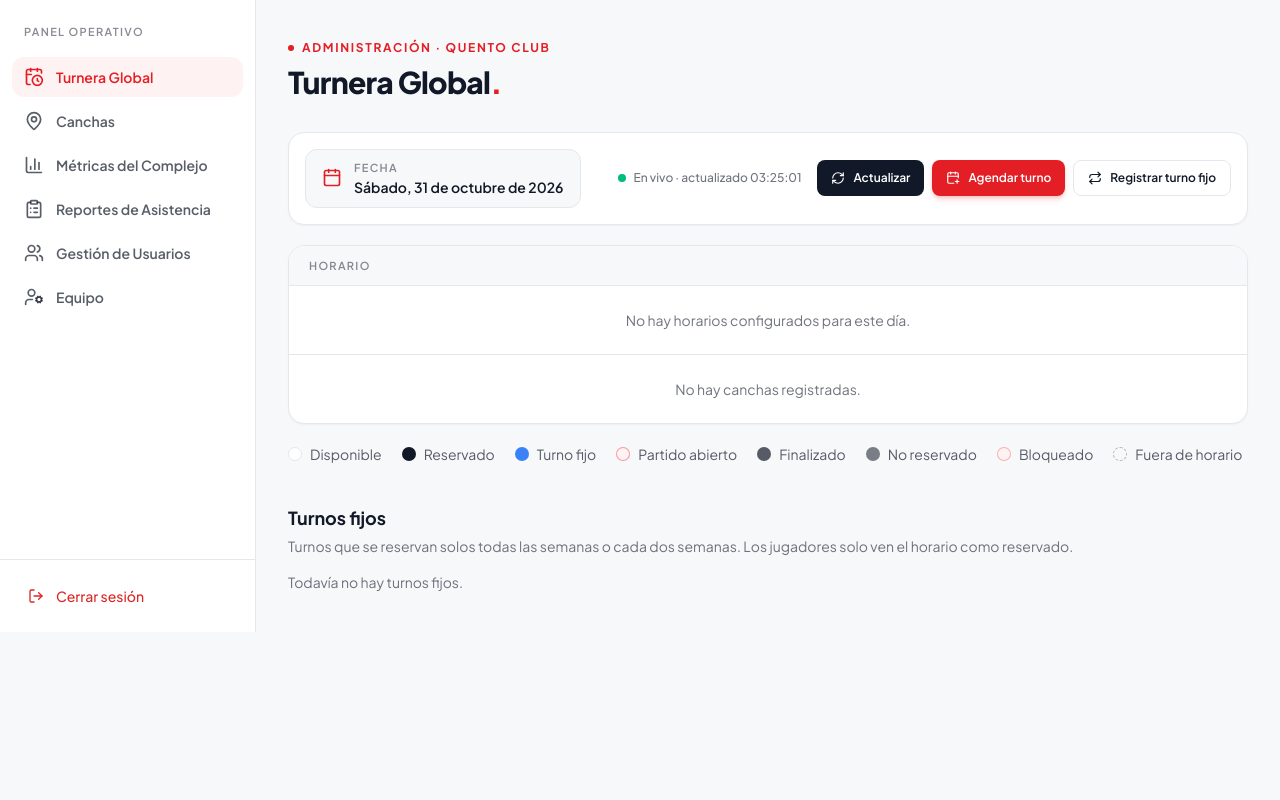
Test case: AdminPanel › Agendar turno abre el alta de un turno común
What coordinates should you click on to do the following:
click the button "Agendar turno"
I would click on:
 (999, 178)
Its box is [932, 160, 1065, 196].
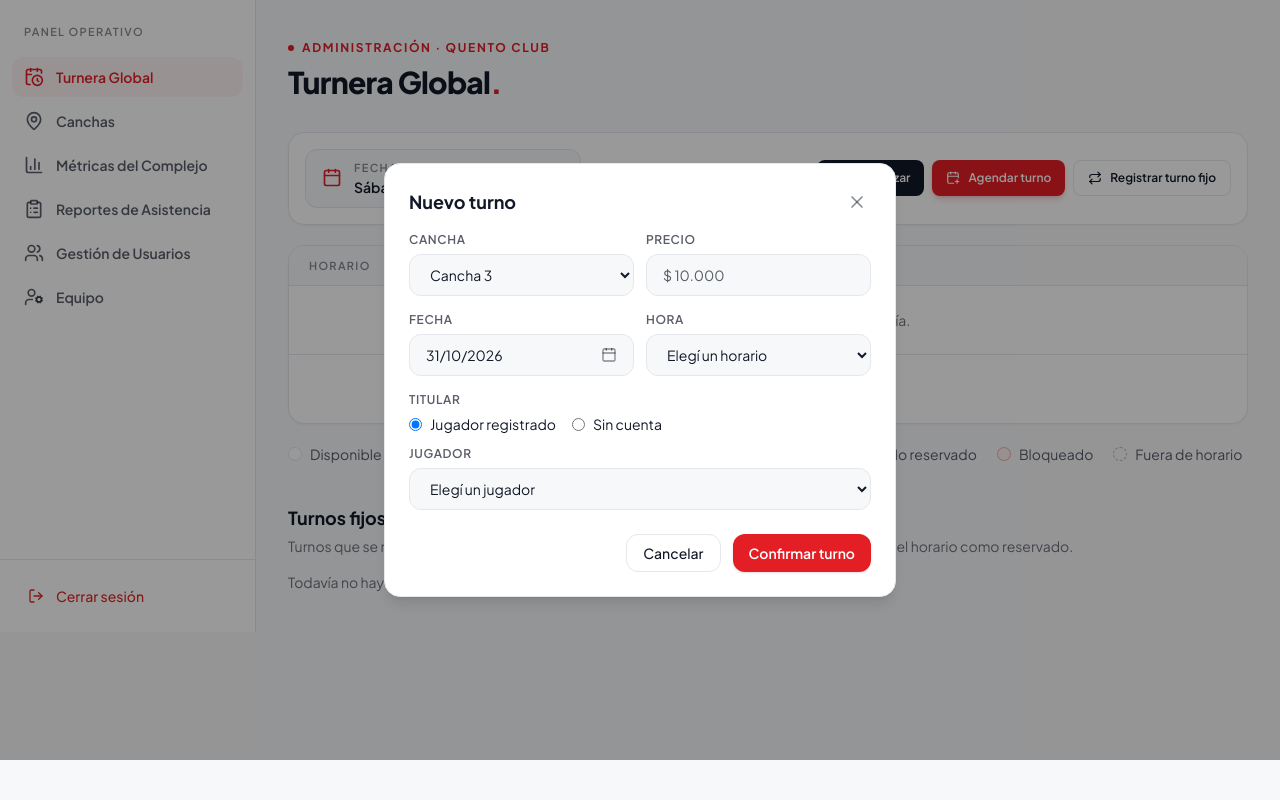
Now the heading "Nuevo turno" is shown, box [409, 188, 516, 216]
